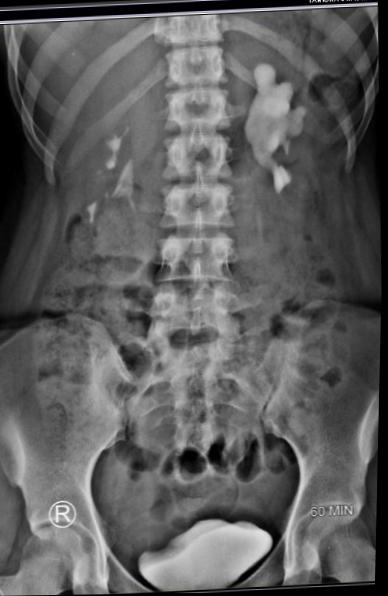bladder: (130, 521, 276, 593)
left kidney: (237, 30, 345, 216)
vertebrae: (158, 78, 226, 133)
